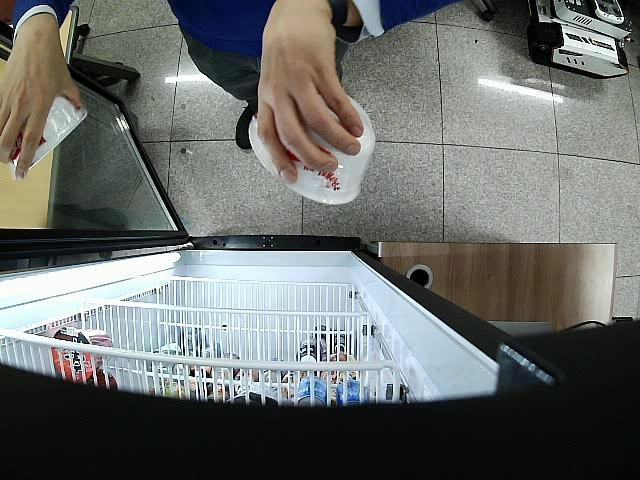09_yukGaeJang: (248, 95, 375, 204), (12, 85, 88, 174)
